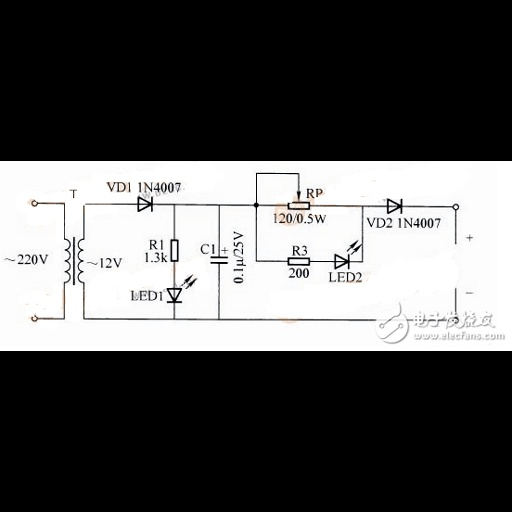firstpolarcapacitor: (207, 247, 232, 266)
firstresistance: (167, 236, 184, 264), (281, 255, 314, 267)
seconddiode: (380, 193, 409, 216), (135, 194, 155, 215)
secondled: (323, 235, 362, 271), (164, 275, 201, 306)
transformer: (59, 232, 87, 288)
